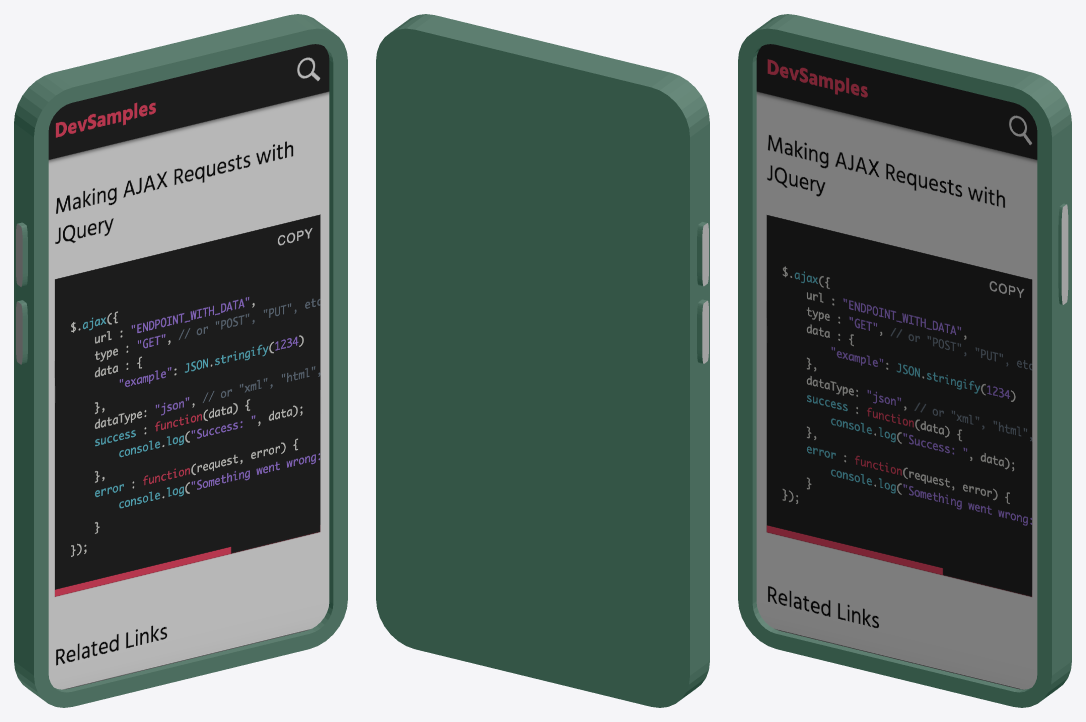
The model's file is devsamples-iphone-hq.glb.
3 views of the same model, side by side, from view 1: azimuth 30°, elevation 25°; view 2: azimuth 150°, elevation 25°; view 3: azimuth 330°, elevation 25° (orthographic).
Parts seen in each view (by area): view 1: Plane, Plane.002, Plane.003; view 2: Plane, Plane.002, Plane.003; view 3: Plane, Plane.001.
Boxes of the visible parts, x1=… form: Plane: x1=14, y1=14, x2=347, y2=707; Plane.002: x1=16, y1=222, x2=27, y2=286; Plane.003: x1=16, y1=300, x2=27, y2=364; Plane: x1=376, y1=14, x2=709, y2=707; Plane.002: x1=697, y1=222, x2=708, y2=286; Plane.003: x1=697, y1=299, x2=708, y2=363; Plane: x1=738, y1=14, x2=1071, y2=707; Plane.001: x1=1058, y1=203, x2=1068, y2=304.
Bounding box in the file's own units: 2.91 × 5.34 × 0.3115.
3 materials, 1 textured.
